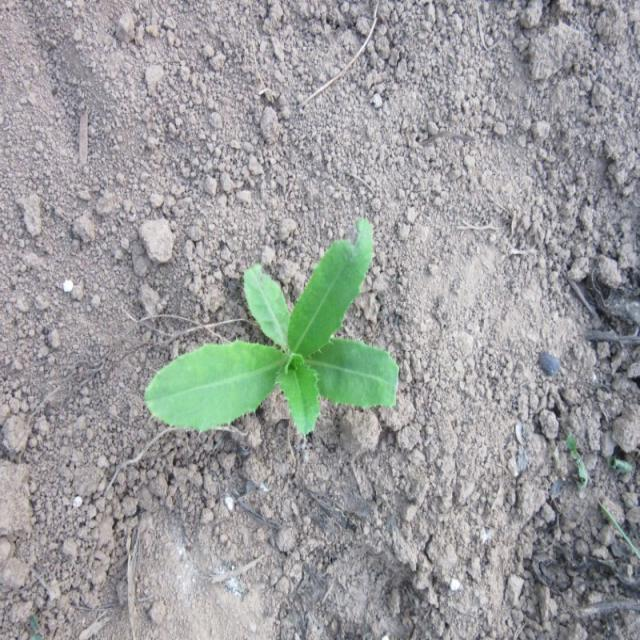cs: (142, 217, 405, 455)
